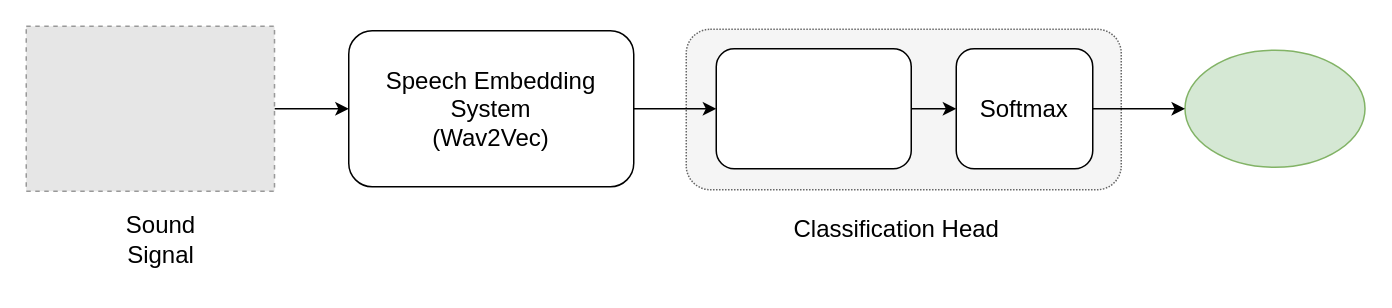
This 1392x308 diagram has some shape labels left out. Grey dashed boxes stand in for pictures. Each missing label, with the centre of its shape:
Dense Layer: pixel 813 108
Meter Class: pixel 1274 108
